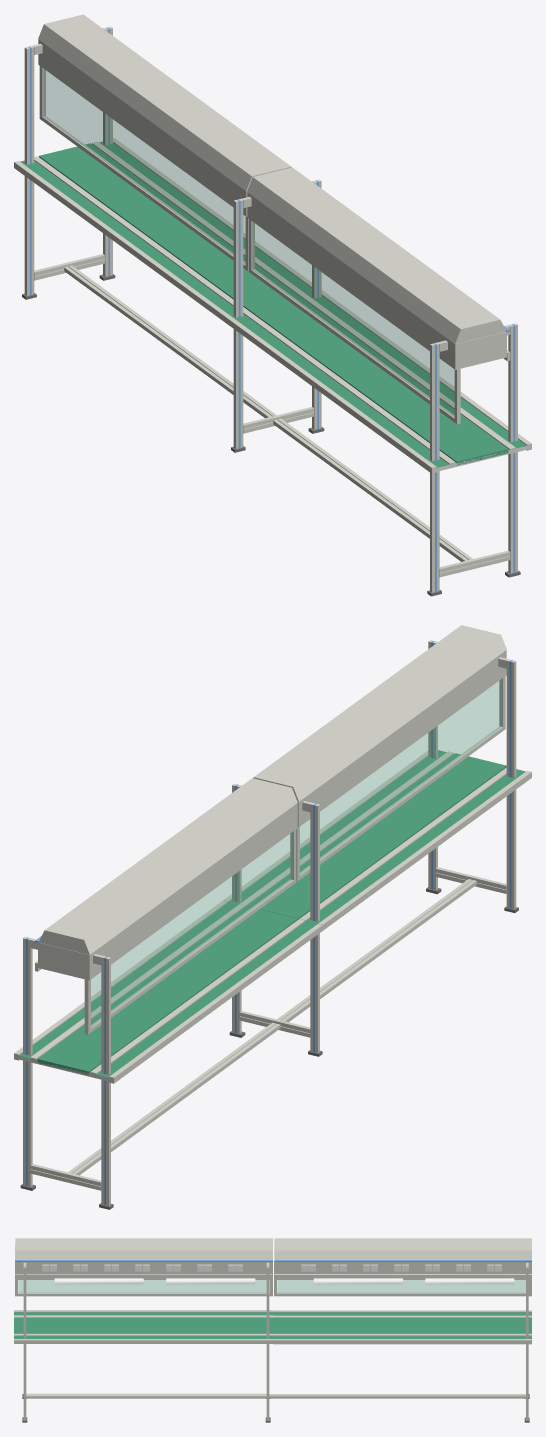
The model's file is workbench.glb.
3 renders of one model, top to bottom at view 1: azimuth 30°, elevation 25°; view 2: azimuth 150°, elevation 25°; view 3: azimuth 270°, elevation 25°, orthographic. The views are drawn at different scales.
Visible parts, largest first — view 1: 立方体.18 (×2), 立方体.17 (×2), 立方体.8 (×2), 立方体.16 (×2), 立方体.7-材质.2 (×2), 立方体.12 (×2), 立方体-材质.1 (×2), 立方体.25 (×2), 立方体.5 (×2), 立方体.9 (×2), 立方体.10 (×2), 立方体.11 (×2) (+5 smaller); view 2: 立方体.18 (×2), 立方体.17 (×2), 立方体.8 (×2), 立方体.16 (×2), 立方体.7-材质.2 (×2), 立方体.12 (×2), 立方体.25 (×2), 立方体-材质.1 (×2), 立方体.5 (×2), 立方体.9 (×2), 立方体.10 (×2), 立方体.26-材质.1 (+4 smaller); view 3: 立方体.18 (×2), 立方体.8 (×2), 立方体.17 (×2), 立方体.16 (×2), 立方体.7-材质.2 (×2), 立方体.11 (×2), 立方体.25 (×2), 立方体.19 (×2), 立方体.6 (×2), 立方体.10 (×2), 立方体.12 (×2), 立方体.9 (×2) (+6 smaller).
Part boxes in pixels (bbox=[...]): 立方体.18 (×2): bbox=[38, 14, 505, 344]; 立方体.17 (×2): bbox=[43, 69, 454, 417]; 立方体.8 (×2): bbox=[39, 143, 508, 465]; 立方体.16 (×2): bbox=[38, 39, 506, 369]; 立方体.7-材质.2 (×2): bbox=[20, 141, 526, 467]; 立方体.12 (×2): bbox=[14, 161, 436, 473]; 立方体-材质.1 (×2): bbox=[24, 47, 243, 448]; 立方体.25 (×2): bbox=[39, 66, 460, 424]; 立方体.5 (×2): bbox=[64, 266, 468, 561]; 立方体.9 (×2): bbox=[34, 156, 455, 467]; 立方体.10 (×2): bbox=[92, 141, 515, 452]; 立方体.11 (×2): bbox=[113, 138, 531, 450]; 立方体.18 (×2): bbox=[39, 625, 506, 954]; 立方体.17 (×2): bbox=[91, 679, 501, 1027]; 立方体.8 (×2): bbox=[37, 753, 506, 1075]; 立方体.16 (×2): bbox=[38, 650, 506, 980]; 立方体.7-材质.2 (×2): bbox=[19, 750, 525, 1077]; 立方体.12 (×2): bbox=[109, 770, 531, 1083]; 立方体.25 (×2): bbox=[84, 676, 505, 1034]; 立方体-材质.1 (×2): bbox=[101, 804, 319, 1205]; 立方体.5 (×2): bbox=[72, 880, 476, 1175]; 立方体.9 (×2): bbox=[90, 767, 506, 1076]; 立方体.10 (×2): bbox=[30, 751, 453, 1062]; 立方体.26-材质.1: bbox=[506, 661, 516, 909]; 立方体.18 (×2): bbox=[15, 1238, 531, 1259]; 立方体.8 (×2): bbox=[14, 1317, 531, 1333]; 立方体.17 (×2): bbox=[18, 1280, 525, 1293]; 立方体.16 (×2): bbox=[15, 1245, 531, 1273]; 立方体.7-材质.2 (×2): bbox=[14, 1312, 531, 1338]; 立方体.11 (×2): bbox=[14, 1339, 531, 1344]; 立方体.25 (×2): bbox=[15, 1261, 531, 1296]; 立方体.19 (×2): bbox=[15, 1274, 531, 1279]; 立方体.6 (×2): bbox=[26, 1395, 525, 1398]; 立方体.10 (×2): bbox=[14, 1333, 531, 1336]; 立方体.12 (×2): bbox=[14, 1310, 531, 1312]; 立方体.9 (×2): bbox=[14, 1315, 531, 1317].
Size of the model in its own units: 33.78 by 85.69 by 244.
